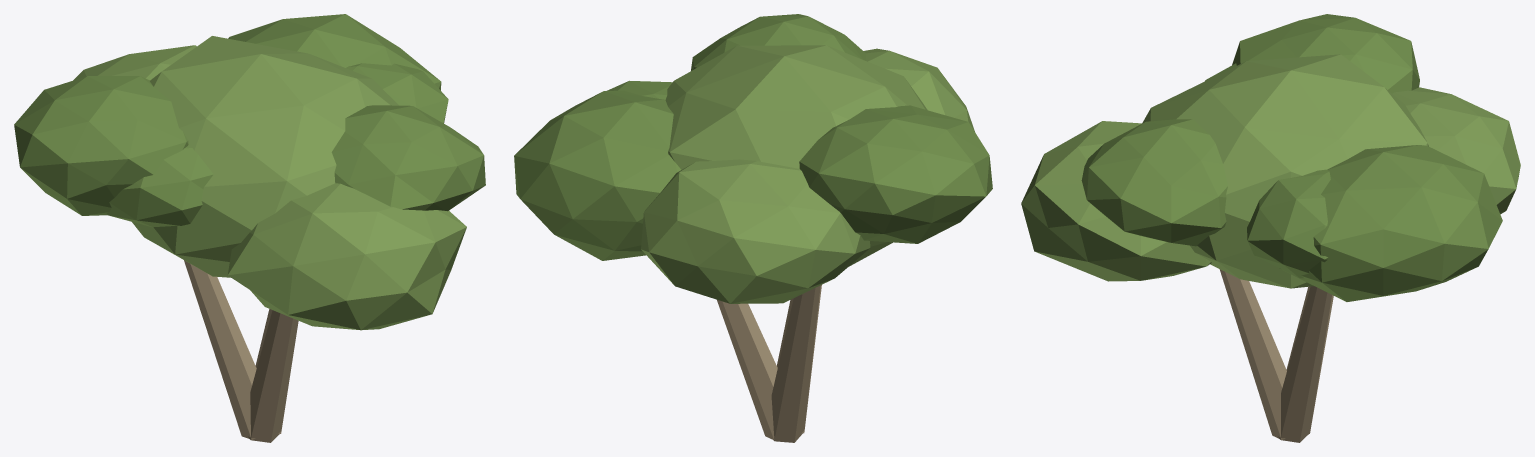
File: incir.glb
3 views of the same model, side by side, from view 1: azimuth 30°, elevation 25°; view 2: azimuth 150°, elevation 25°; view 3: azimuth 270°, elevation 25° (orthographic). The views are drawn at different scales.
Parts seen in each view (by area): view 1: yaprak3, yaprak1, tas_koyu; view 2: yaprak3, yaprak1, tas_koyu; view 3: yaprak1, yaprak3, tas_koyu.
Boxes of the visible parts, x1,y1,x2,y2 form: yaprak3: (73,36,466,330); yaprak1: (14,14,485,227); tas_koyu: (184,260,298,442); yaprak3: (641,45,974,303); yaprak1: (514,14,992,260); tas_koyu: (717,285,821,442); yaprak1: (1081,14,1502,301); yaprak3: (1021,54,1520,288); tas_koyu: (1219,269,1333,442).
Size of the model in its own units: 4.32 by 3.71 by 4.6.
